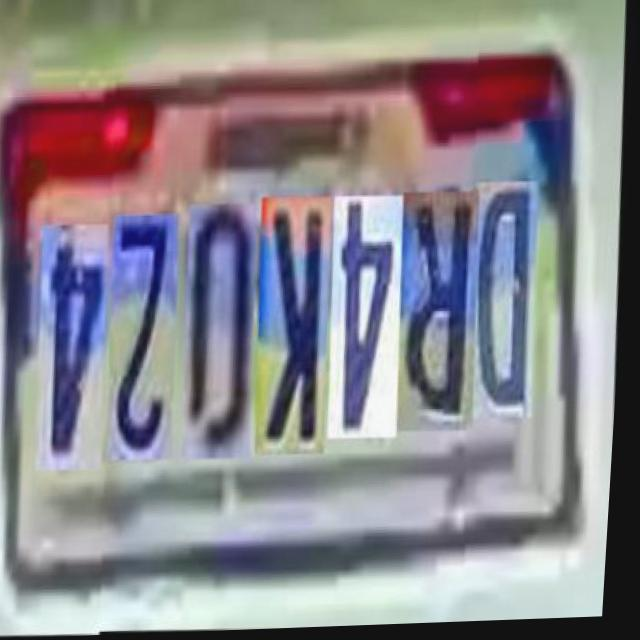0: (183, 206, 268, 464)
2: (107, 217, 190, 466)
4: (329, 198, 415, 444), (37, 223, 120, 472)
d: (471, 188, 548, 427)
k: (255, 200, 342, 460)
r: (398, 194, 490, 438)
